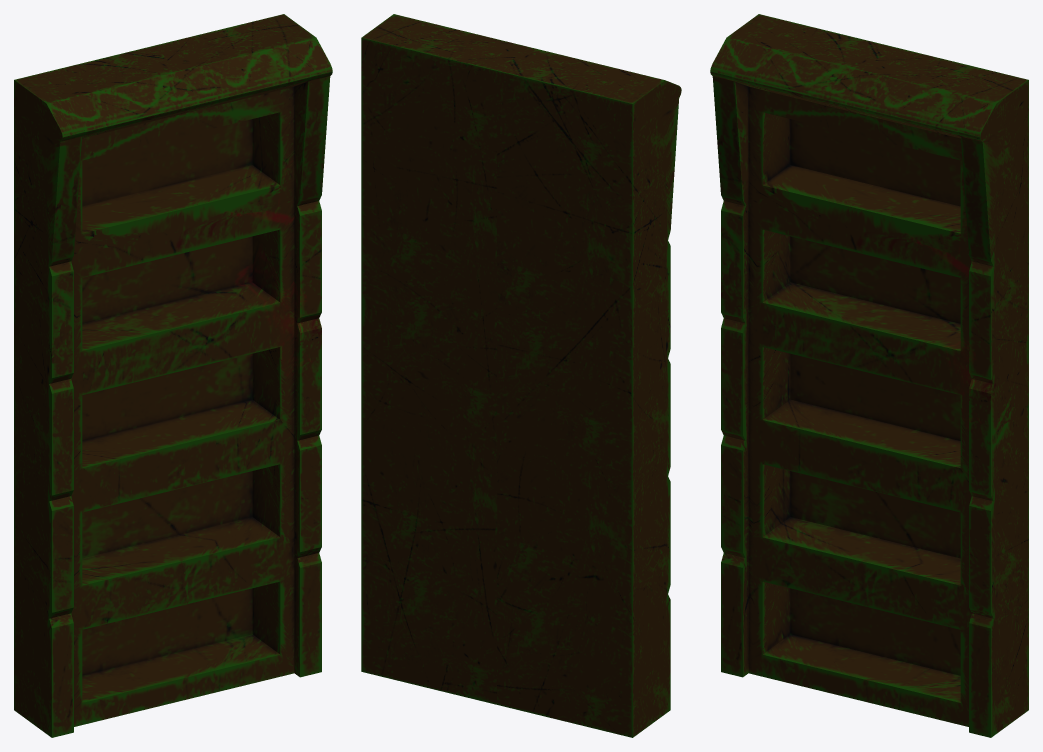
The model's file is obj_abandoned_library_f183f7.glb.
The picture shows the model from 3 angles, left to right: view 1: azimuth 30°, elevation 25°; view 2: azimuth 150°, elevation 25°; view 3: azimuth 330°, elevation 25°; orthographic projection.
Parts seen in each view (by area): view 1: obj_abandoned_library_f183f7; view 2: obj_abandoned_library_f183f7; view 3: obj_abandoned_library_f183f7.
Part boxes in pixels (left/top/right/bottom): obj_abandoned_library_f183f7: left=14, top=14, right=332, bottom=737; obj_abandoned_library_f183f7: left=361, top=14, right=681, bottom=737; obj_abandoned_library_f183f7: left=710, top=14, right=1028, bottom=737.
Bounding box in the file's own units: 0.8067 × 1.8 × 0.2529.
Materials: 1 (1 with a texture image).
